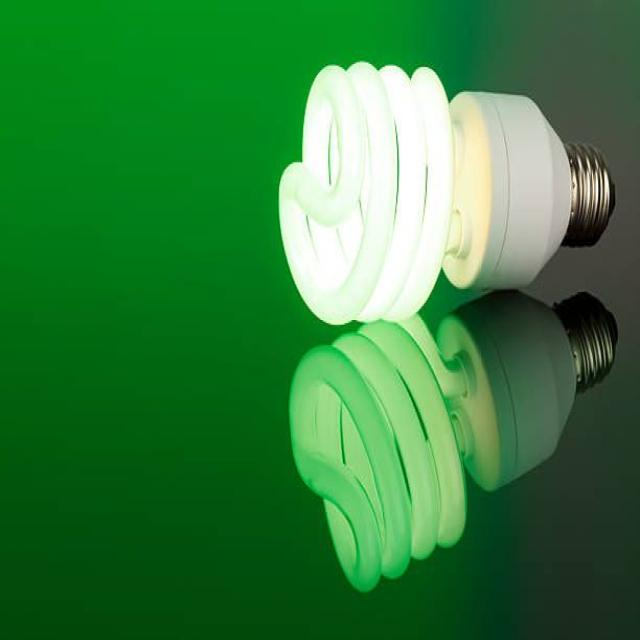electronic: (288, 286, 618, 593), (277, 58, 616, 326), (287, 315, 468, 593), (435, 286, 618, 492), (441, 87, 616, 295)
